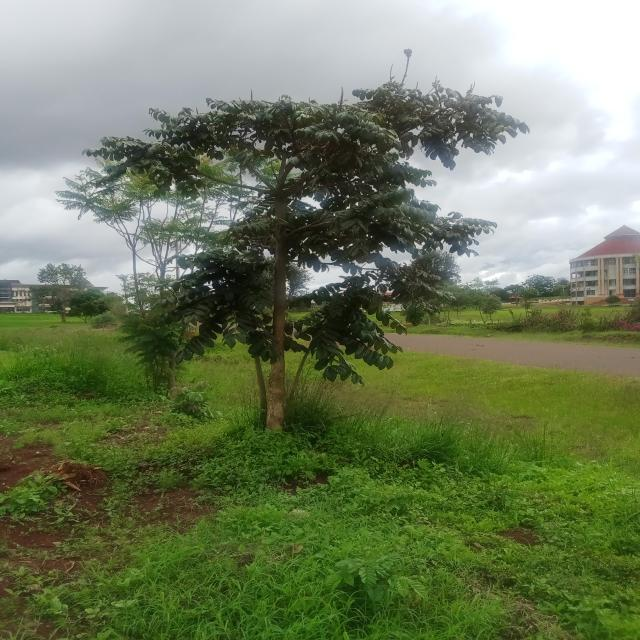Polyscias Kikuyensis: (85, 77, 531, 436)
